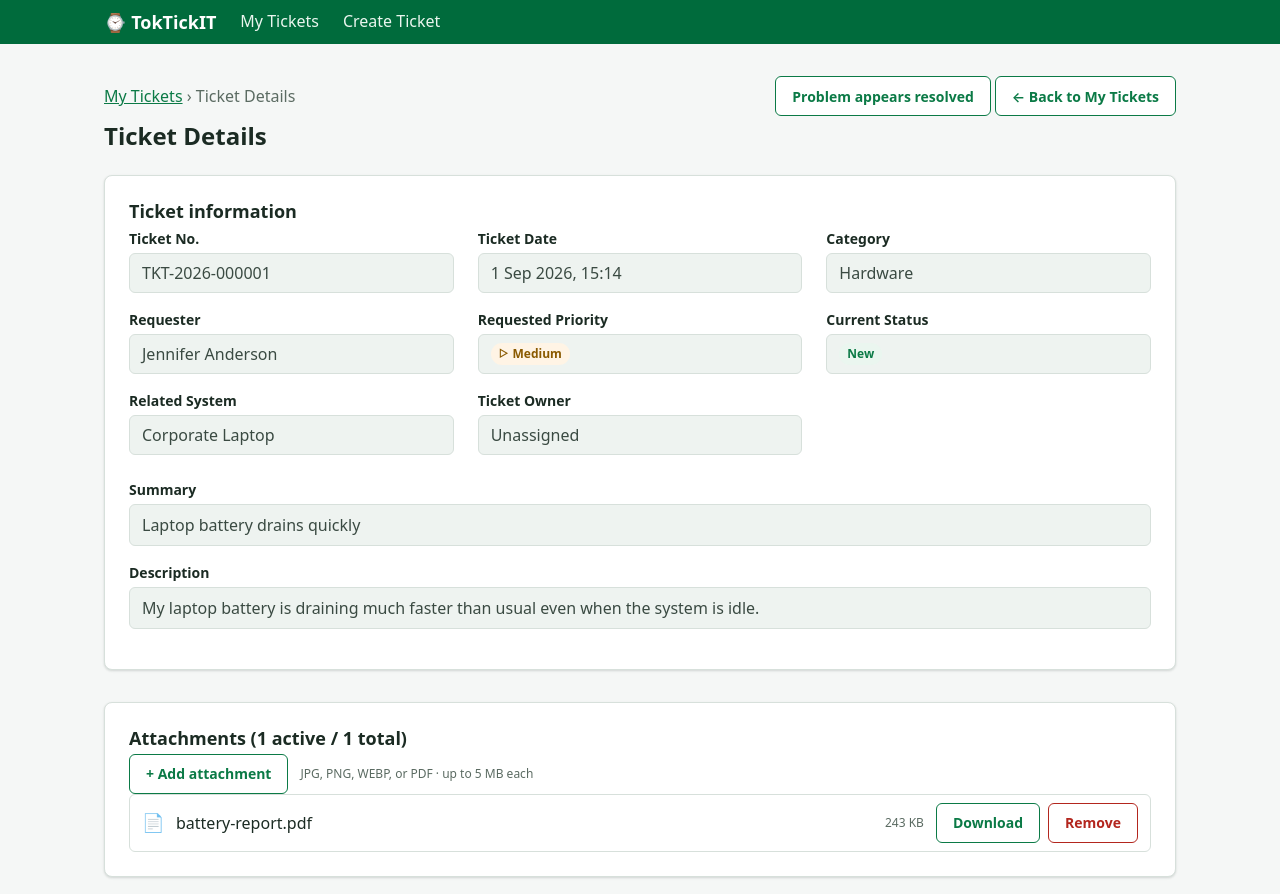
Scenario: C-18 remove flow integration on Ticket Detail › removing the ticket's one active attachment moves its row to Removed and drops the heading's active count from 1 to 0
Expected: the text "TKT-2026-000001" is shown, [129,253,454,293]
Expected: the heading "Attachments (1 active / 1 total)" is shown, [129,726,407,750]
Click the button "Remove".
click(1093, 823)  # box [1048,803,1138,843]
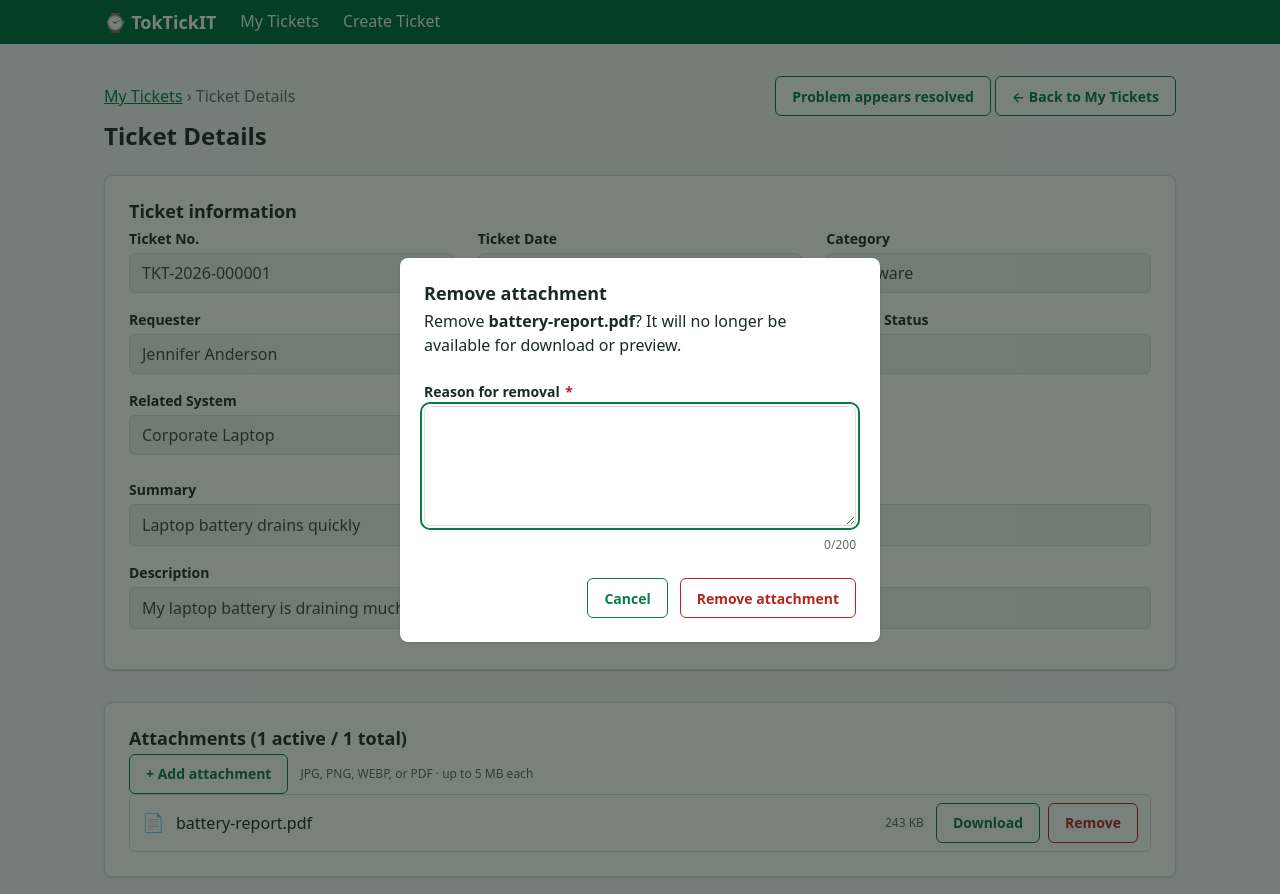
Type "Wrong attachment" into the text box labelled "Reason for removal *".
click(640, 466); type("Wrong attachment")  # box [424,406,856,526]
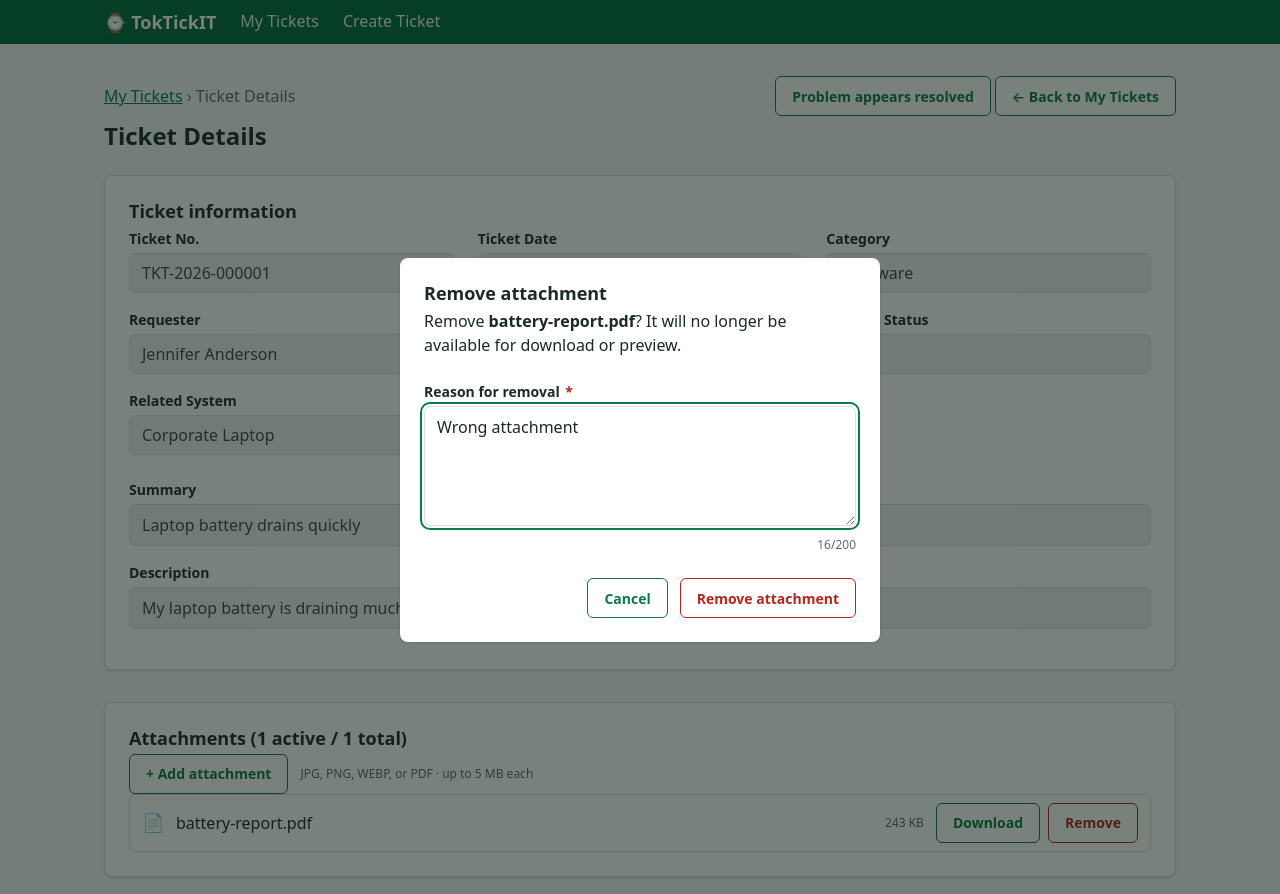
Click the button "Remove attachment".
click(768, 598)  # box [680,578,856,618]
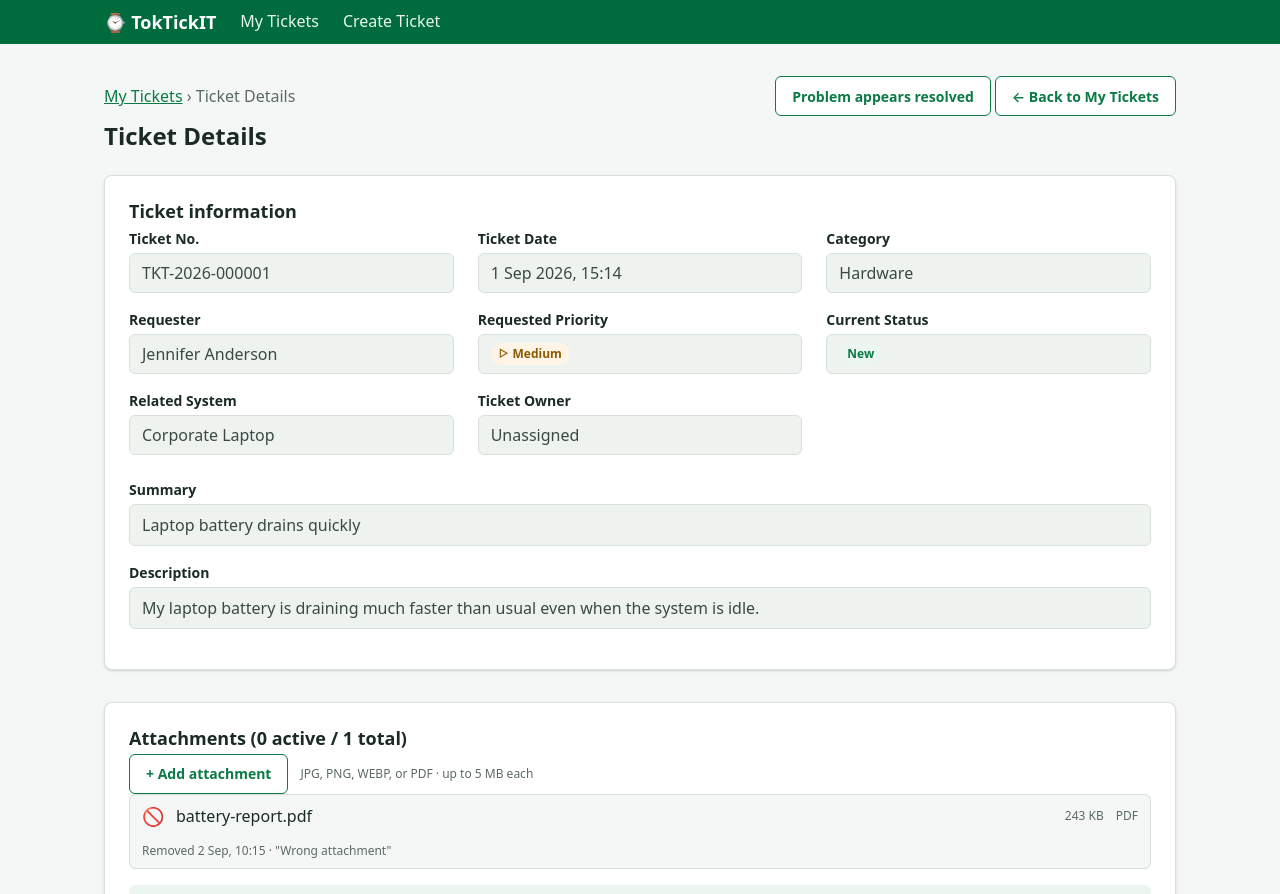
Now the heading "Attachments (0 active / 1 total)" is shown, box [129,726,407,750]
Now the text "Removed 2 Sep, 10:15 · \"Wrong attachment\"" is shown, box [142,842,391,859]
